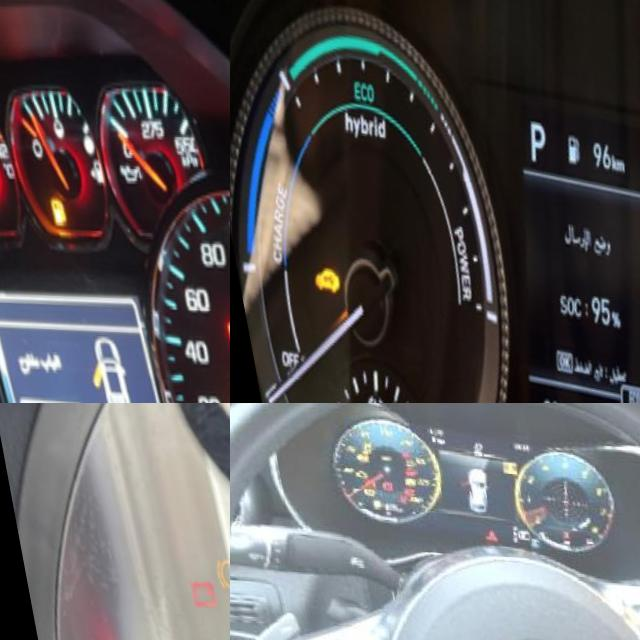Engine cooling system: (548, 526, 559, 537)
Low fuel level: (37, 189, 60, 225), (359, 498, 368, 508)
security: (291, 257, 338, 302)
